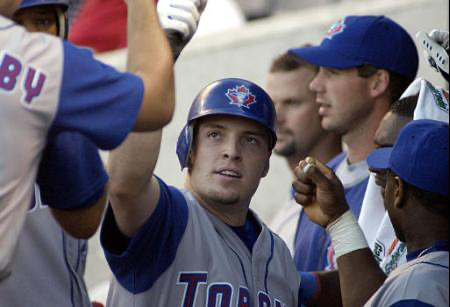Face: (191, 115, 270, 205), (260, 70, 325, 159), (305, 58, 366, 137)
